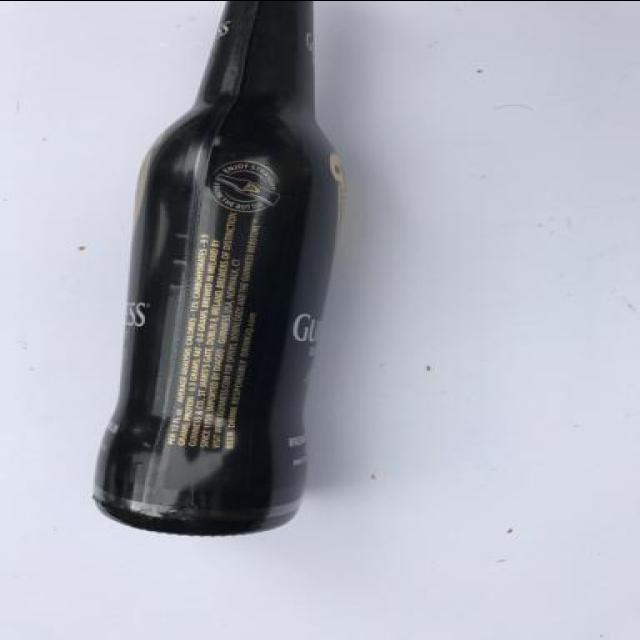Glass Bottle: (80, 2, 360, 538)
